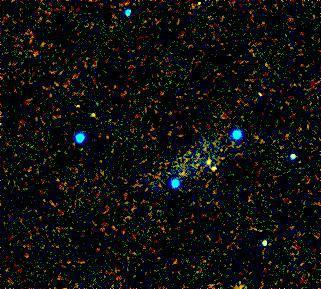star: (198, 148, 228, 178)
